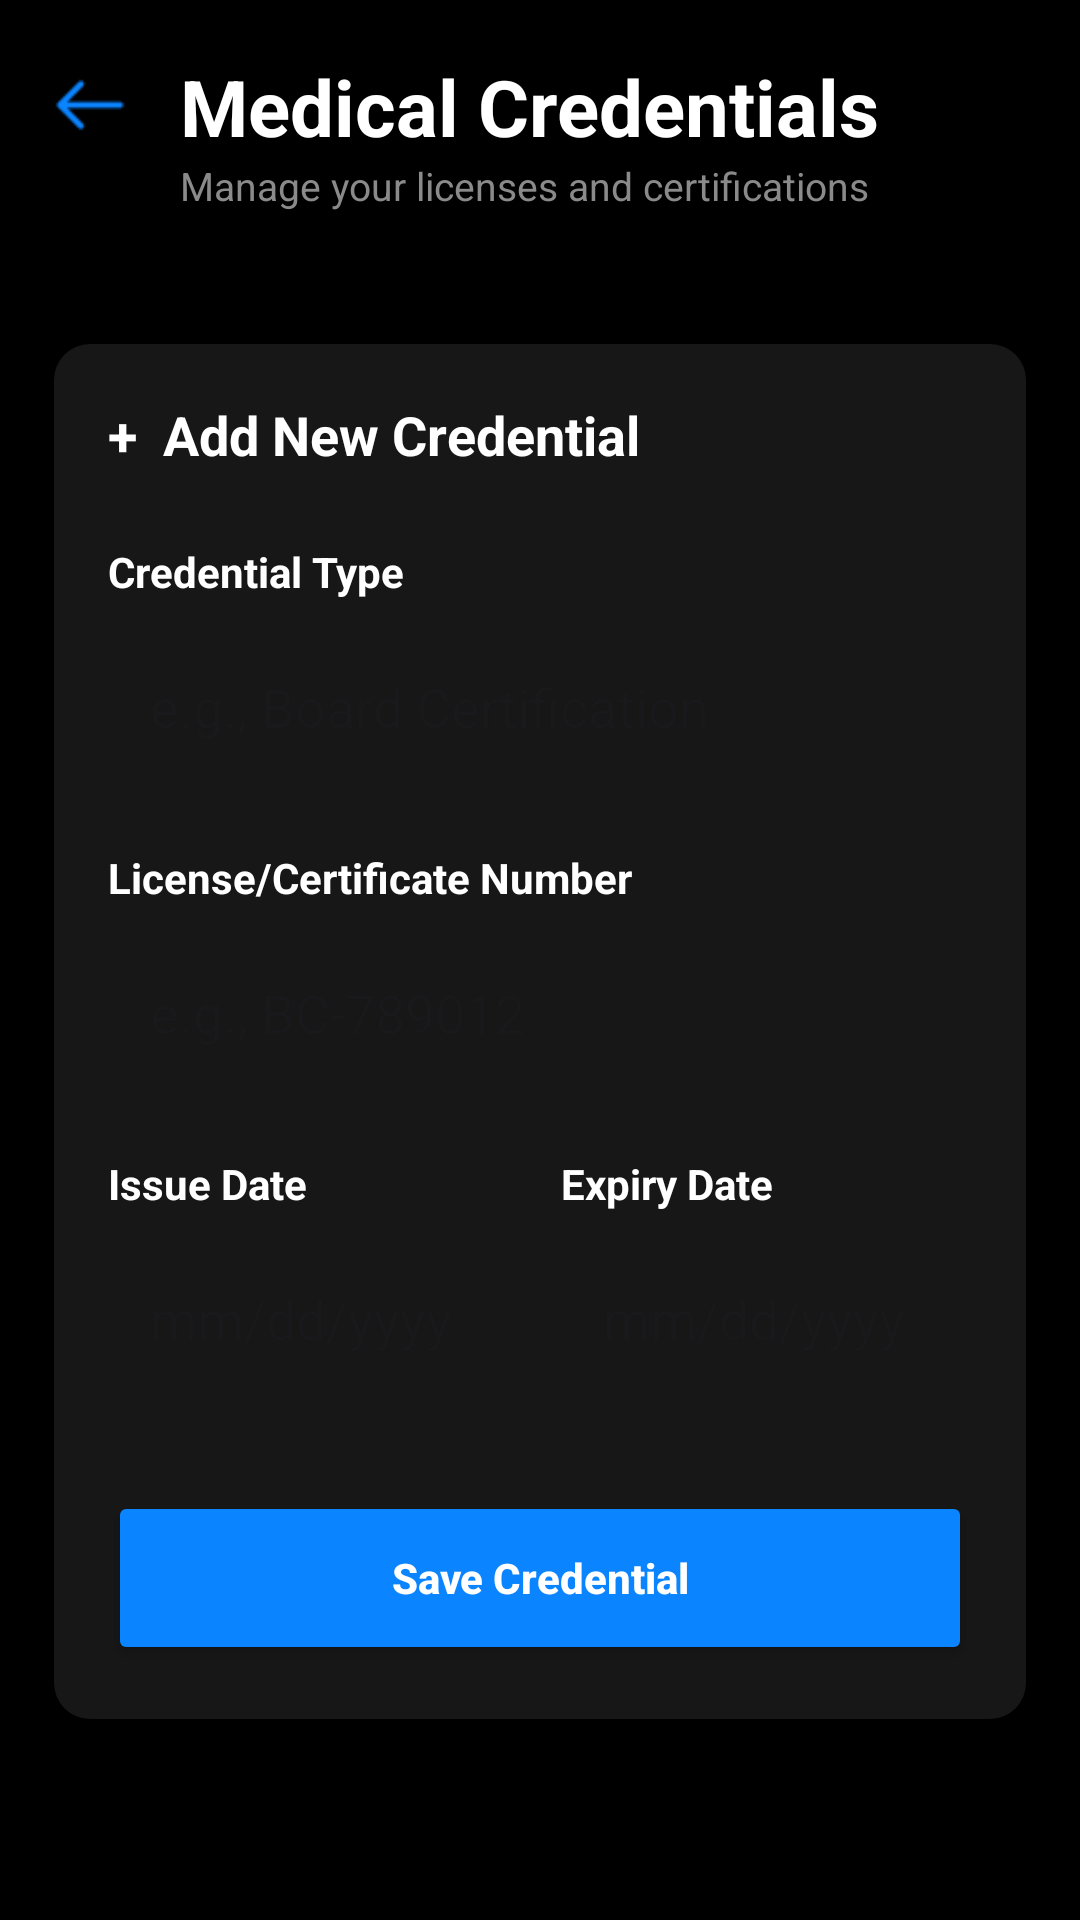

Where icons sit on this 1080*1920 app screen, as (x1, y1, x2, y2):
back: (56, 80, 124, 130)
